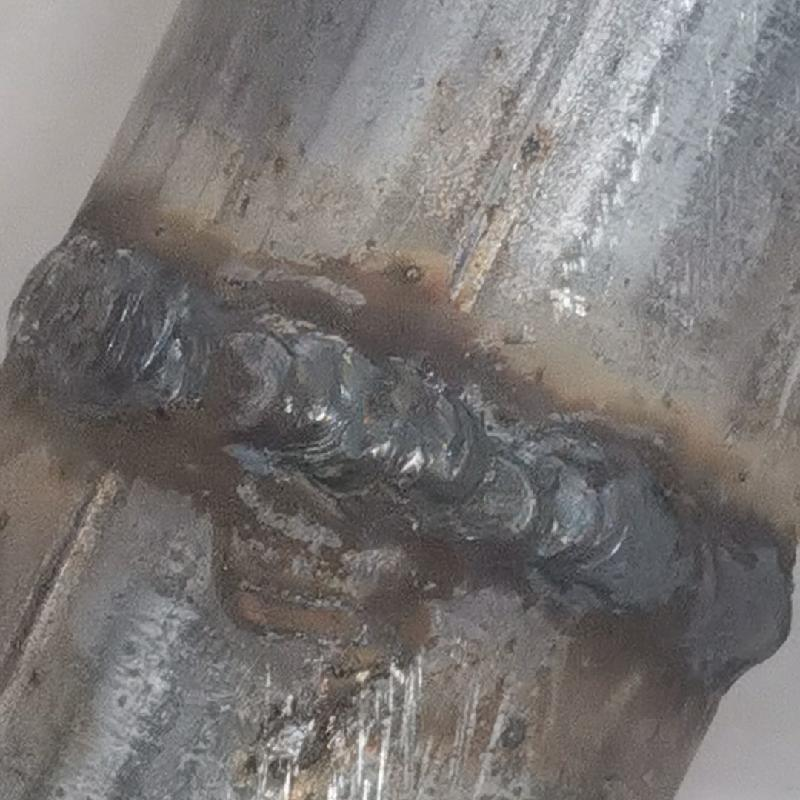good: (0, 230, 799, 694)
